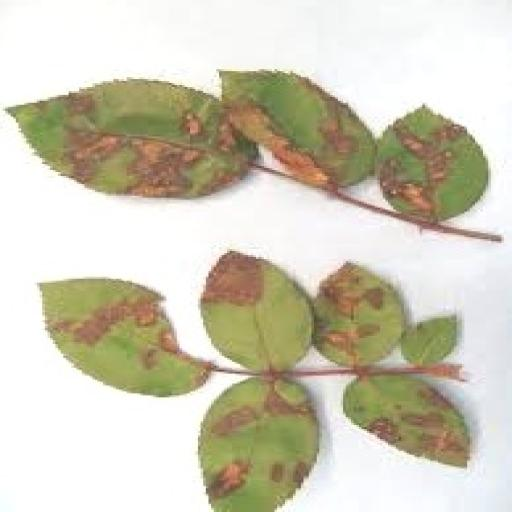downy_mildew: (8, 80, 255, 197), (40, 279, 211, 395), (222, 72, 374, 187), (198, 380, 319, 511), (201, 252, 311, 371), (378, 107, 488, 221), (344, 376, 469, 466), (315, 263, 403, 365), (402, 317, 456, 365)
